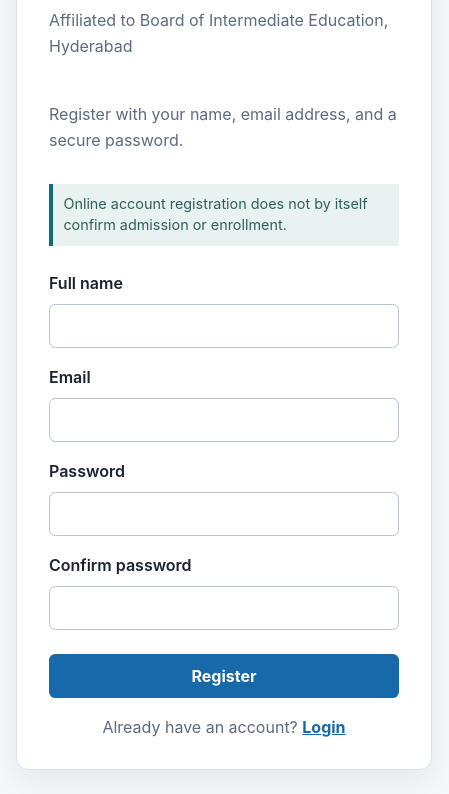
Test: RegisterPage › validates required values, password strength, and confirmation
(page scrolled)
Step 1. Click the button "Register" → coordinates (224, 676), box 49,654 -> 399,698
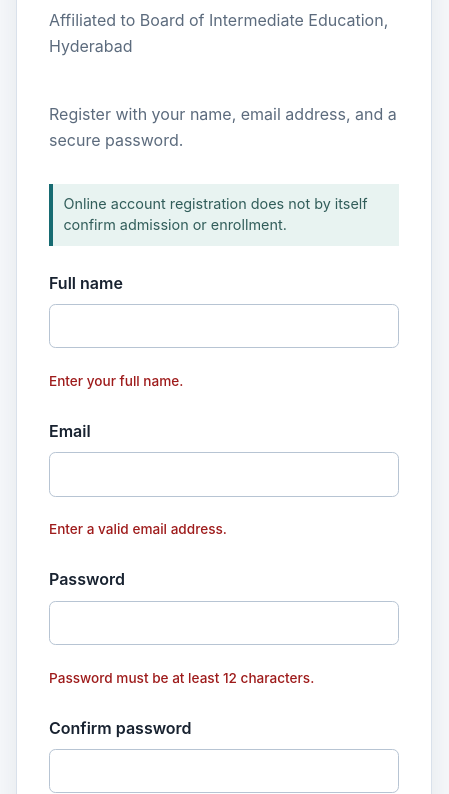
Check: the text "Enter your full name." is shown, box 49,373 -> 184,389
Check: the text "Enter a valid email address." is shown, box 49,522 -> 227,538
Check: the text "Password must be at least 12 characters." is shown, box 49,670 -> 314,686
Step 2. Type "Asha Reddy" into the field labelled "Full name" → coordinates (224, 326), box 49,304 -> 399,348
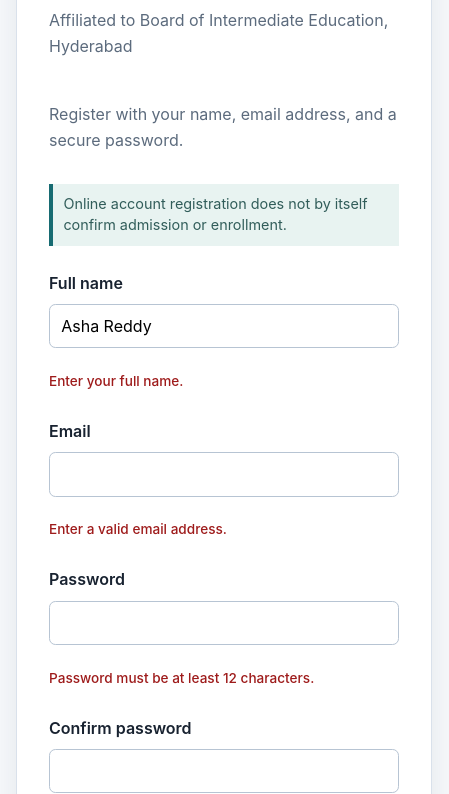
Step 3. Type "asha.reddy@college.example" into the field labelled "Email" → coordinates (224, 474), box 49,452 -> 399,497
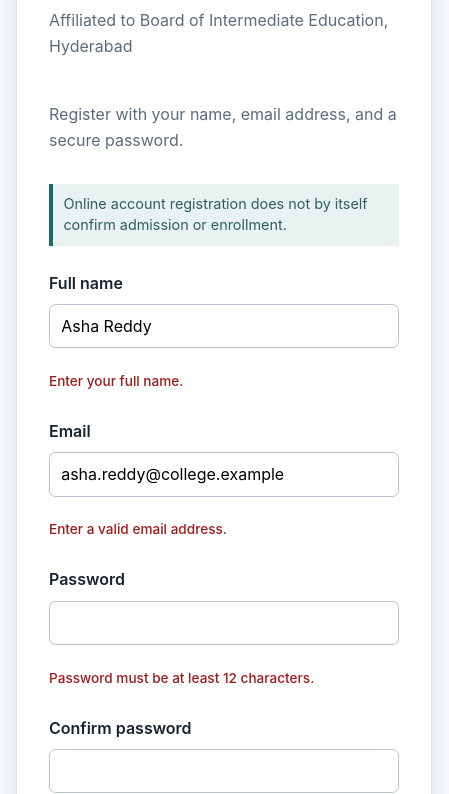
Step 4. Type "SecurePassword123!" into the password field labelled "Password" → coordinates (224, 623), box 49,601 -> 399,645
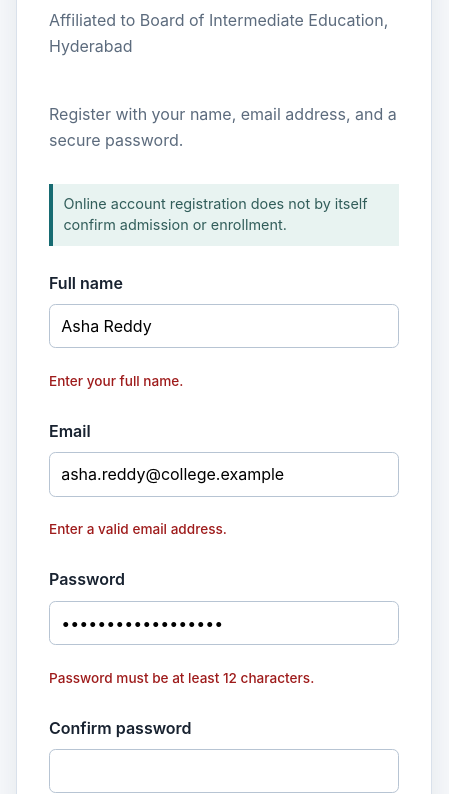
Step 5. Type "DifferentPassword123!" into the password field labelled "Confirm password" → coordinates (224, 771), box 49,749 -> 399,793
(page scrolled)
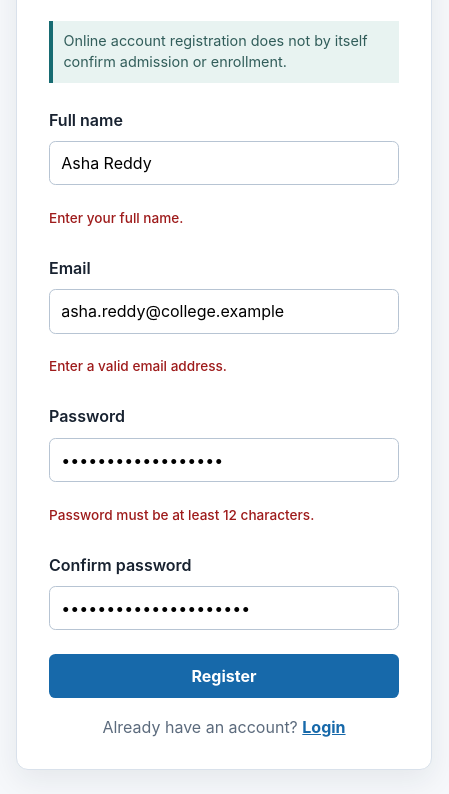
Step 6. Click the button "Register" → coordinates (224, 676), box 49,654 -> 399,698
(page scrolled)
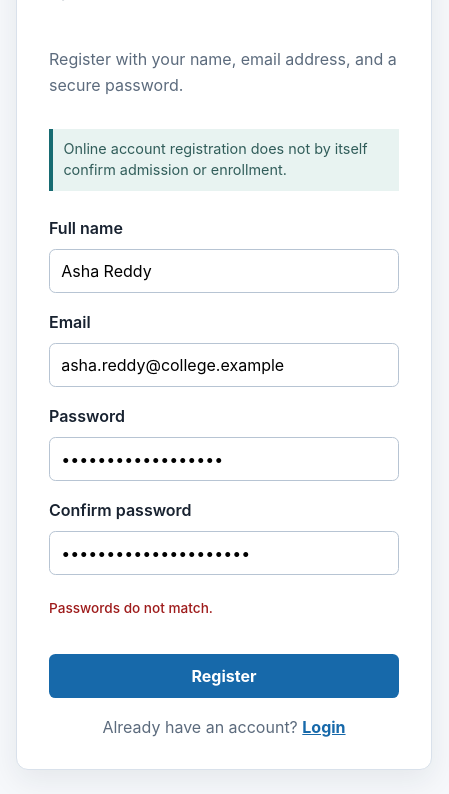
Check: the text "Passwords do not match." is shown, box 49,600 -> 213,616
